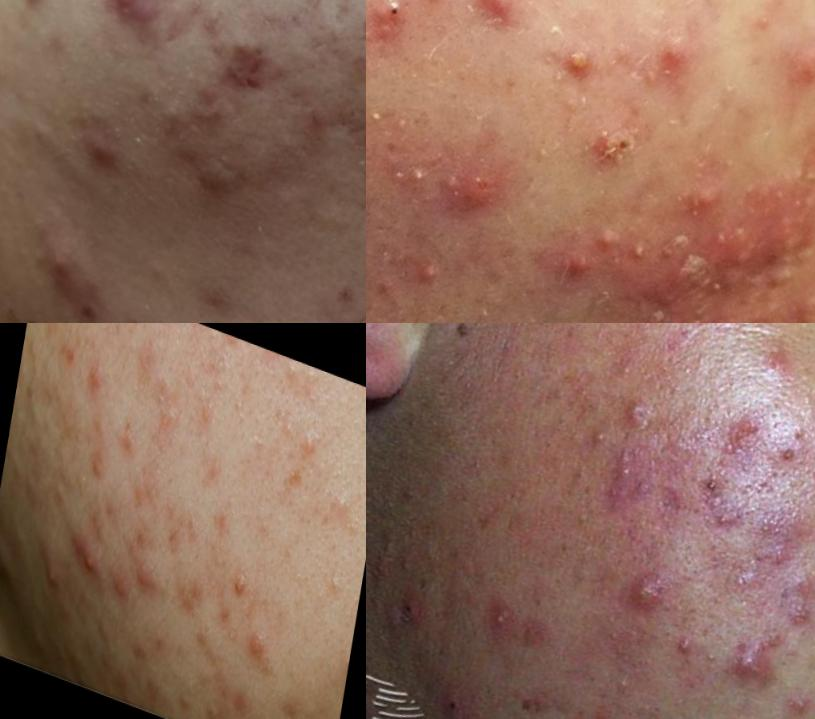blackhead: (151, 381, 183, 423)
cystic: (24, 215, 109, 324), (92, 1, 186, 50), (190, 150, 254, 215)
papular: (420, 98, 548, 241), (629, 16, 719, 110), (760, 7, 815, 138), (65, 114, 145, 184), (82, 338, 127, 424), (205, 554, 264, 611), (239, 622, 283, 693), (555, 242, 603, 303), (620, 391, 666, 445), (136, 558, 167, 612), (108, 560, 137, 608)
purulent: (539, 19, 620, 108), (367, 1, 427, 64), (623, 564, 682, 628), (470, 588, 533, 647), (402, 1, 467, 32), (35, 559, 70, 603), (777, 680, 815, 719), (78, 539, 101, 586)
sebo-crystan-conglo: (603, 169, 815, 324), (567, 101, 654, 196), (421, 166, 523, 236), (603, 281, 768, 324), (593, 431, 657, 523), (456, 1, 549, 64), (750, 509, 811, 581), (769, 554, 815, 641), (728, 640, 778, 700), (716, 408, 760, 476)
whitehead: (400, 235, 463, 309), (598, 662, 655, 719), (367, 95, 404, 150), (298, 422, 333, 477), (396, 154, 434, 200), (325, 566, 350, 603), (47, 477, 70, 513)
